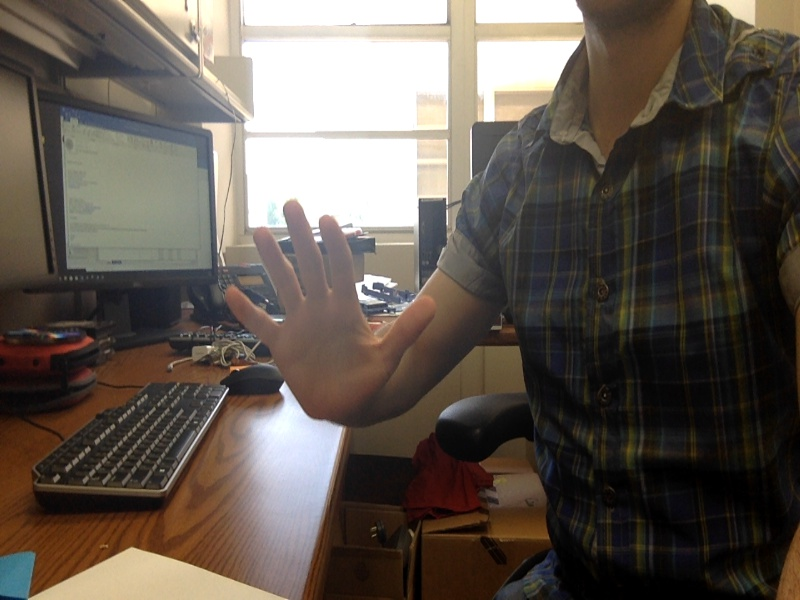5-hand: (225, 199, 438, 427)
